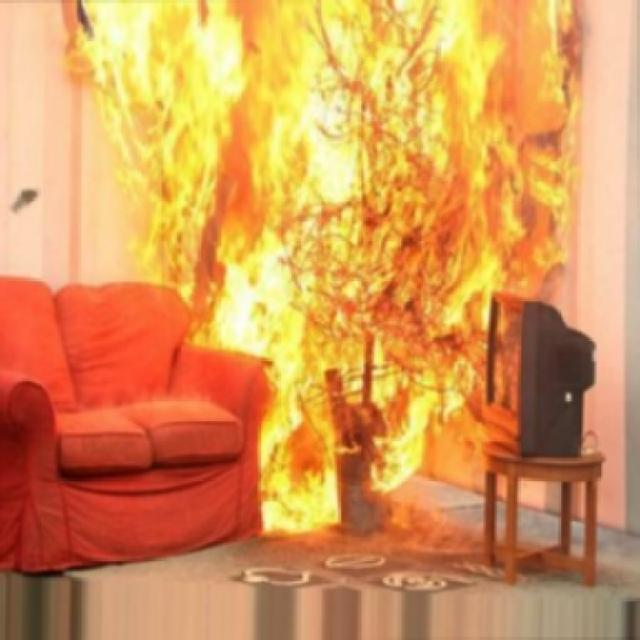fire: (68, 0, 590, 577)
